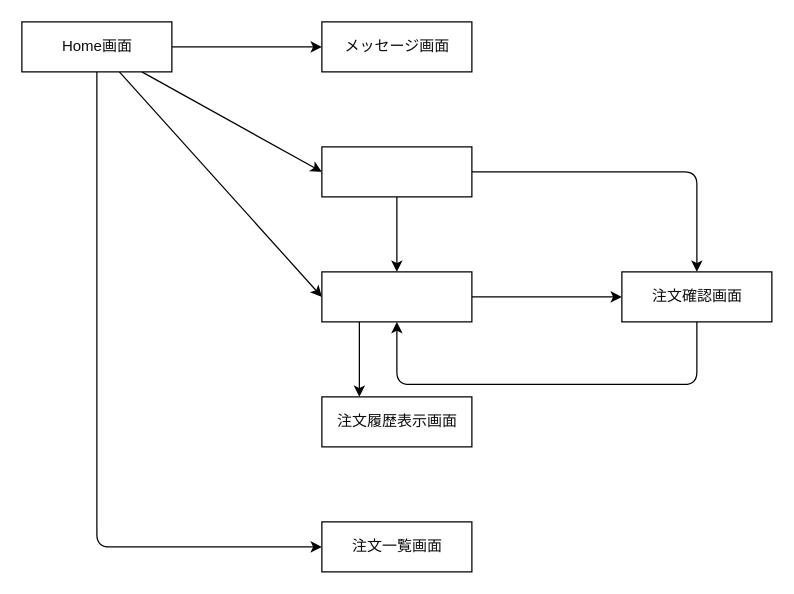
This 794x594 diagram has some shape labels left out. Each missing label, with the box of its shape:
オススメ画面: (321, 146, 472, 197)
商品選択画面: (321, 271, 472, 322)
